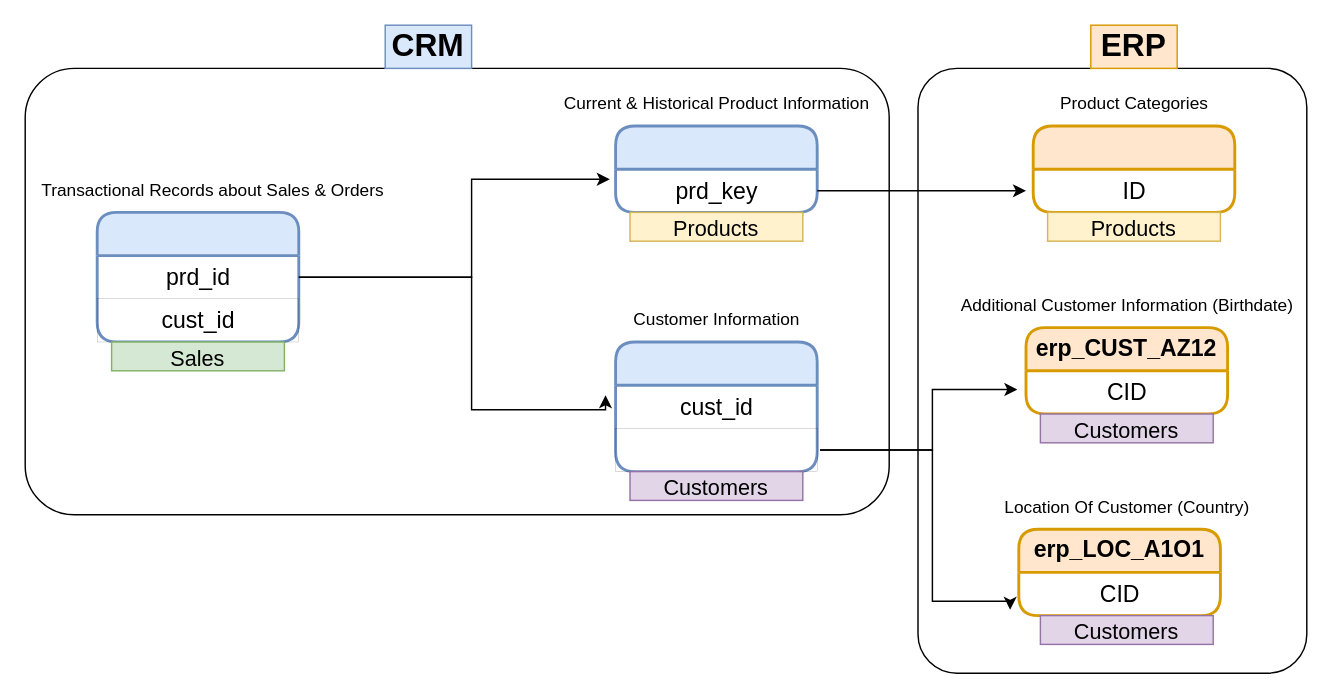
Image size: 1332x698. Some labels were removed from this diagram. The box of each missing label's shape, as (x1, y1, x2, y2) in pixels:
crm_cust_info: (613, 340, 818, 472)
crm_prd_info: (613, 124, 818, 213)
crm_sales_details: (95, 210, 300, 343)
cust_key: (615, 428, 816, 471)
erp_PX_CAT_G1V2: (1031, 124, 1236, 213)
